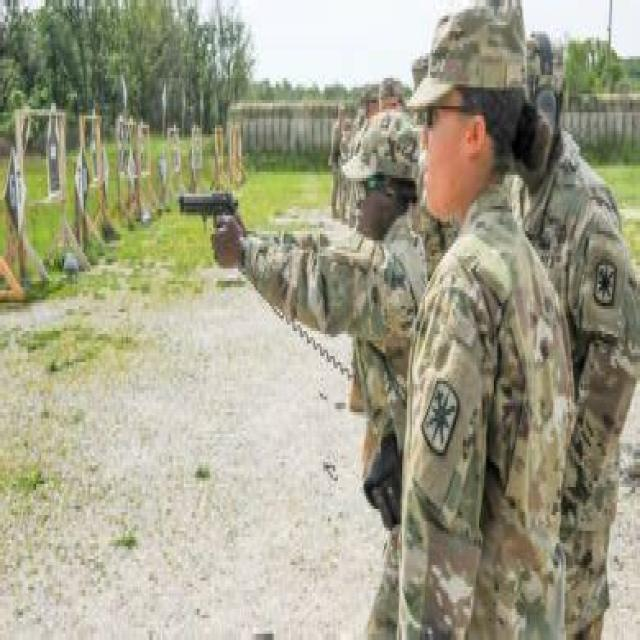weapons: (171, 143, 260, 286)
